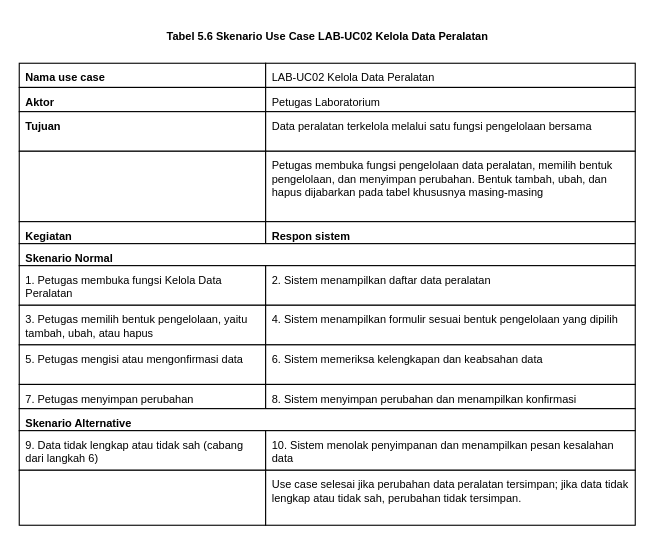
This 655x545 diagram has some shape labels left out. Each missing label, with the centre of its shape:
"Deskripsi" belongs at pixel 142 186.
"Skenario Akhir" belongs at pixel 142 497.
